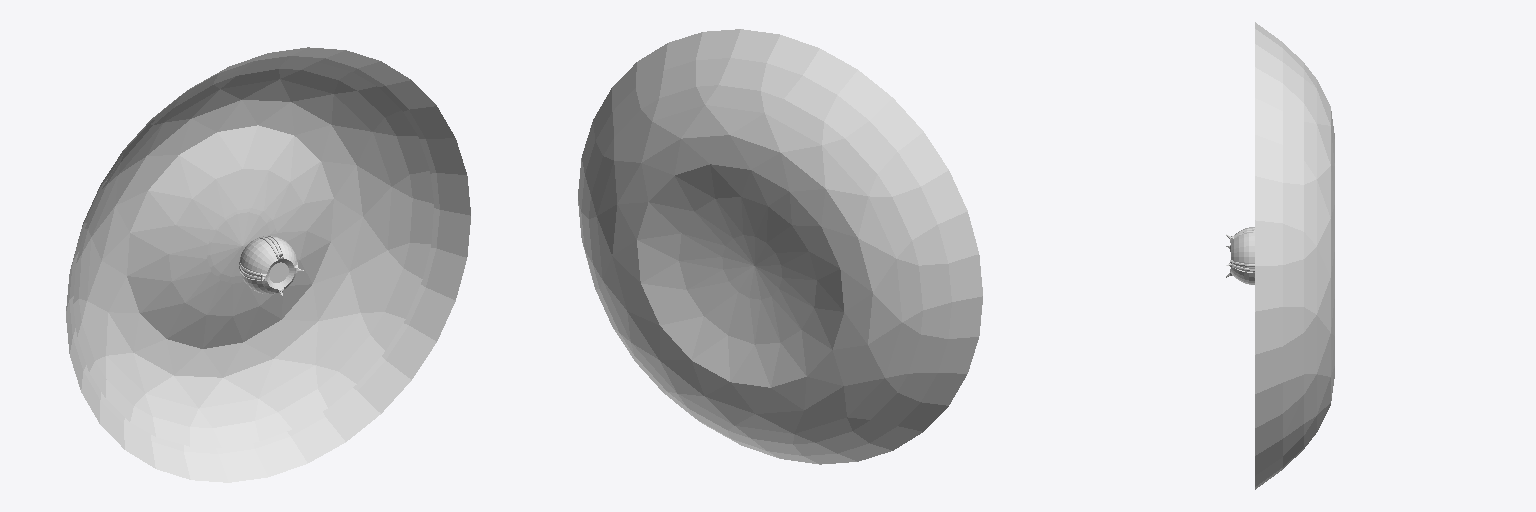
File: stg600_obj_GM.obj
The picture shows the model from 3 angles: view 1: azimuth 30°, elevation 25°; view 2: azimuth 150°, elevation 25°; view 3: azimuth 270°, elevation 25°; orthographic projection.
Parts seen in each view (by area): view 1: polygon1, polygon0, polygon8; view 2: polygon0; view 3: polygon0, polygon8.
Part boxes in pixels (x1,y1,x2,y2): polygon1: (73,60,433,447); polygon0: (66,47,470,482); polygon8: (240,236,296,293); polygon0: (578,29,982,464); polygon0: (1255,22,1334,489); polygon8: (1234,227,1254,284).
Size of the model in its own units: 320 by 320 by 75.